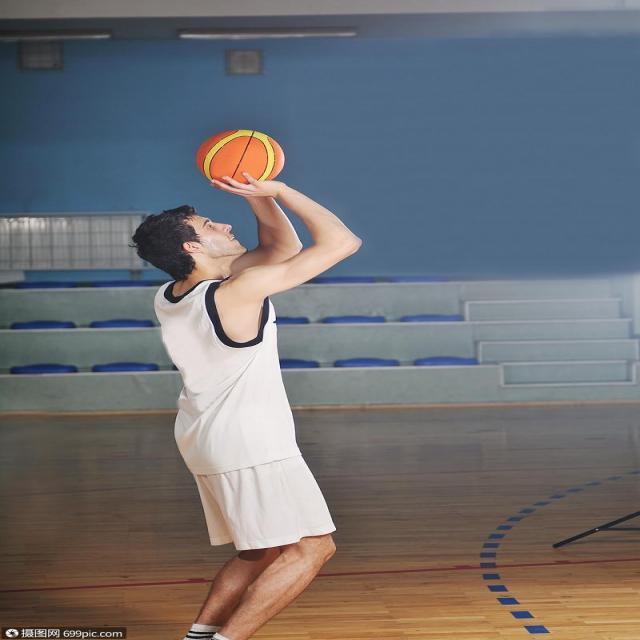rim: (199, 124, 289, 184)
